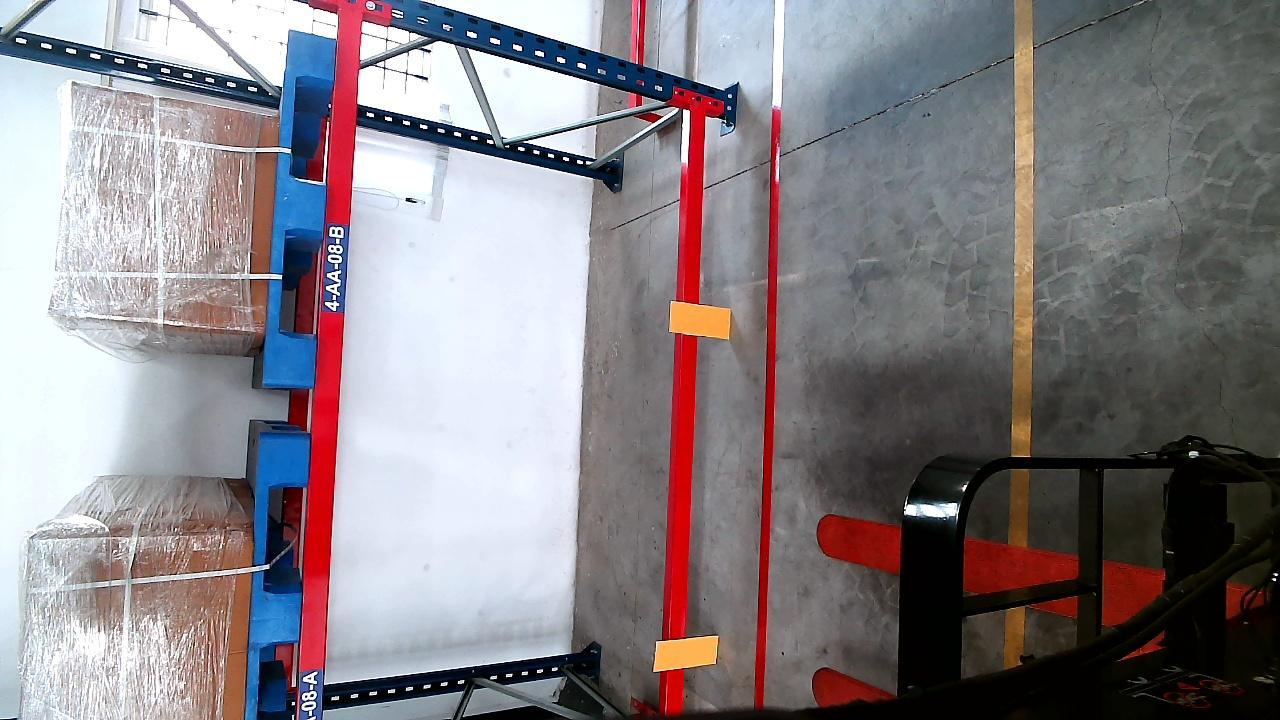red_line: (750, 102, 790, 699)
yellow_line: (1013, 0, 1038, 455)
